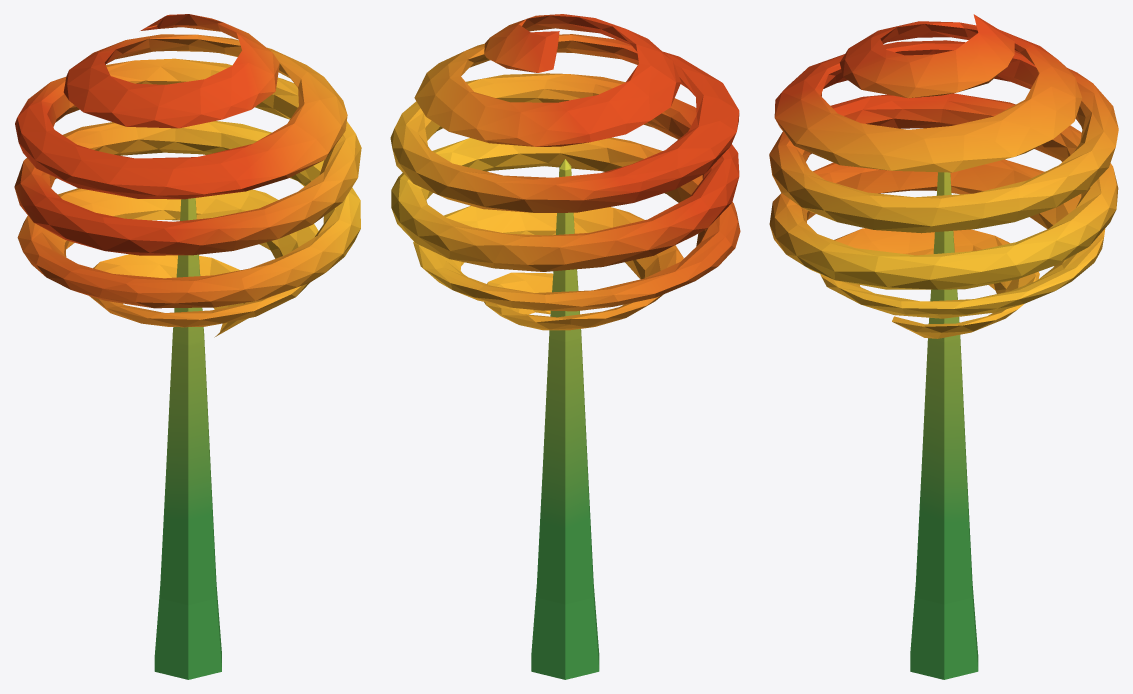
File: fantasy_plant_052.fbx
3 renders of one model, left to right at view 1: azimuth 30°, elevation 25°; view 2: azimuth 150°, elevation 25°; view 3: azimuth 270°, elevation 25°, orthographic.
Parts seen in each view (by area): view 1: fantasy_plant.052; view 2: fantasy_plant.052; view 3: fantasy_plant.052.
Boxes of the visible parts, bbox=[...] form: fantasy_plant.052: bbox=[14, 14, 361, 679]; fantasy_plant.052: bbox=[390, 14, 740, 679]; fantasy_plant.052: bbox=[769, 14, 1118, 679].
Size of the model in its own units: 896 by 1812 by 890.
1 material, 1 textured.
